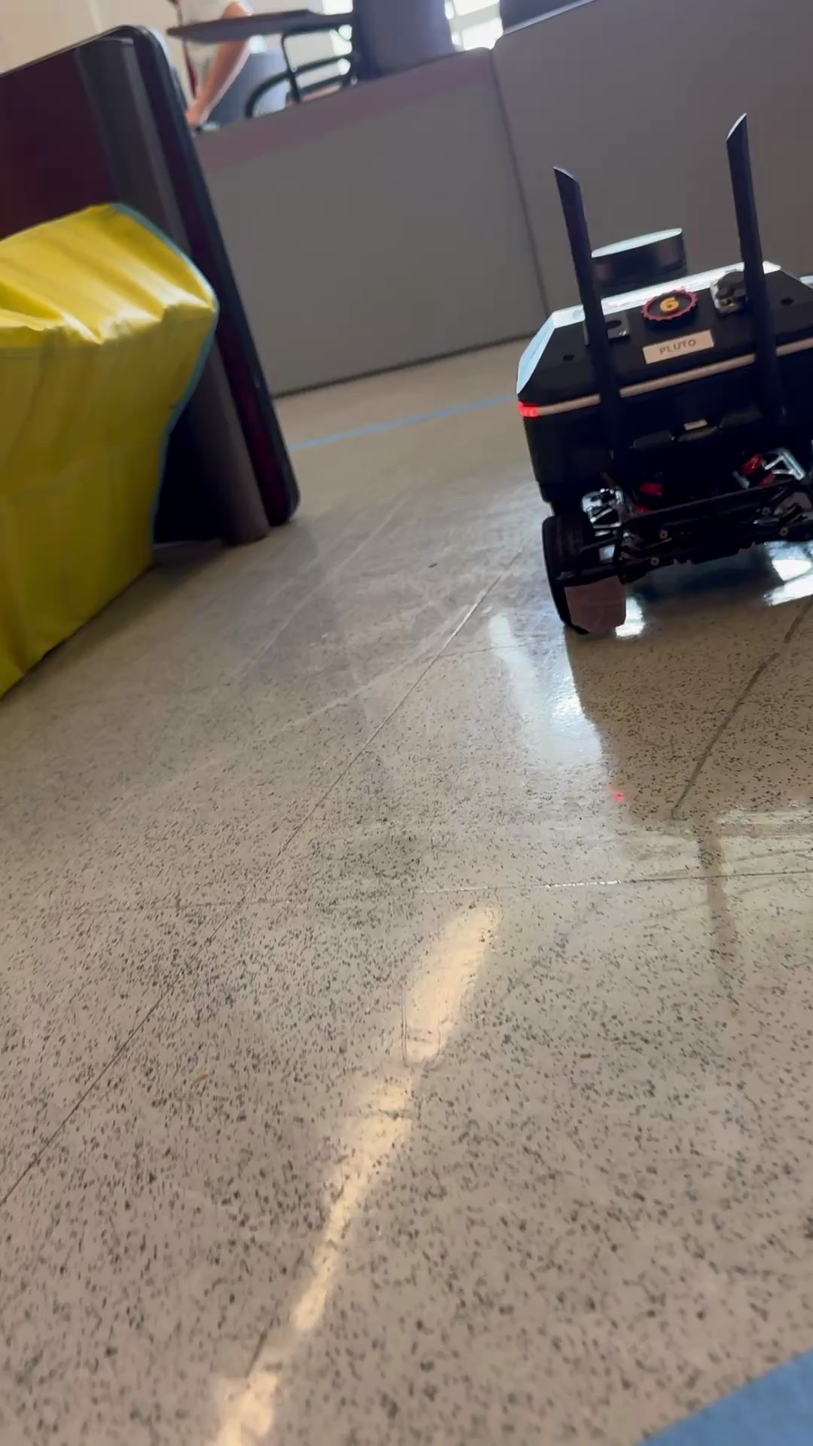racecar: (511, 124, 812, 640)
